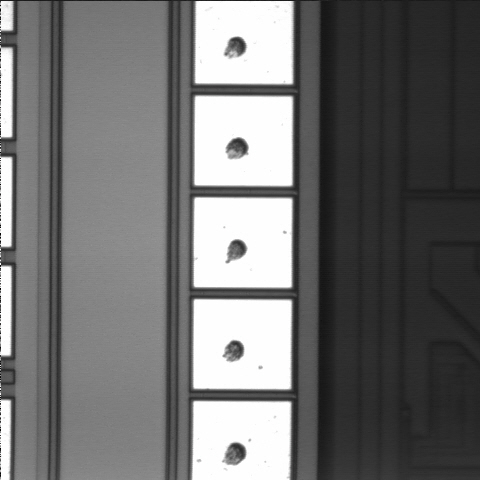pad: (194, 96, 293, 186), (193, 299, 292, 389), (194, 198, 292, 288)
